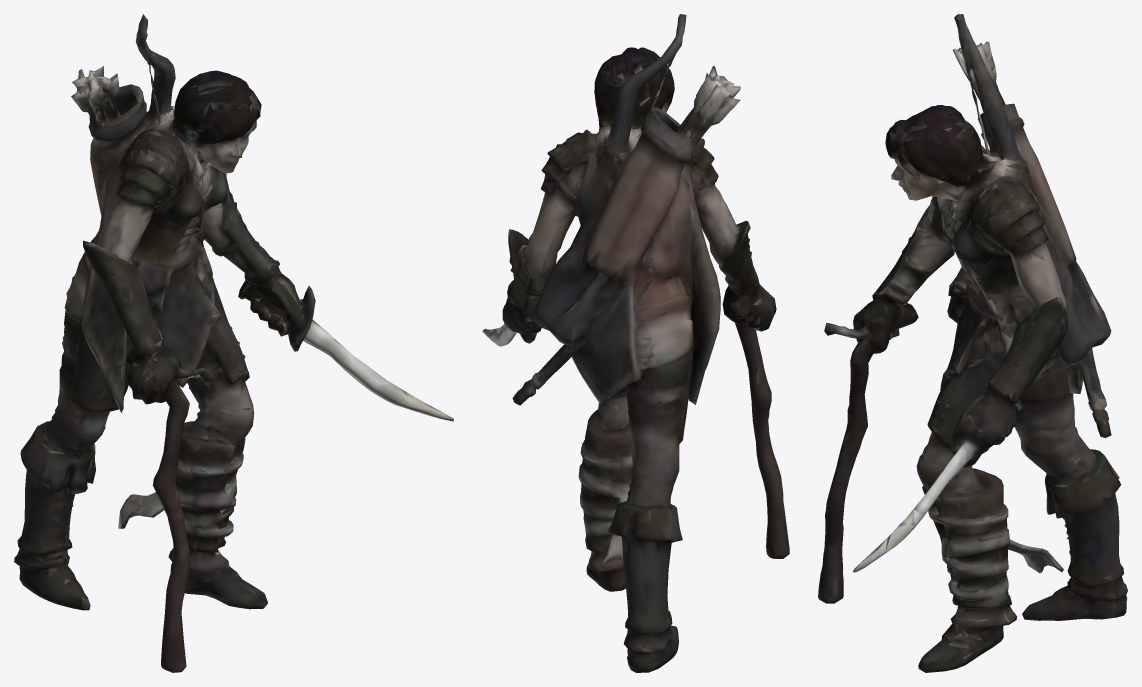
The model's file is Anevia_final.glb.
The picture shows the model from 3 angles, left to right: view 1: azimuth 30°, elevation 25°; view 2: azimuth 150°, elevation 25°; view 3: azimuth 270°, elevation 25°; orthographic projection. The views are drawn at different scales.
Parts seen in each view (by area): view 1: Mesh_0; view 2: Mesh_0; view 3: Mesh_0.
Boxes of the visible parts, <box> form: Mesh_0: <box>14,14,453,672</box>; Mesh_0: <box>482,14,789,672</box>; Mesh_0: <box>818,14,1127,672</box>.
Bounding box in the file's own units: 0.9951 × 1.8 × 0.8191.
Materials: 1 (1 with a texture image).
